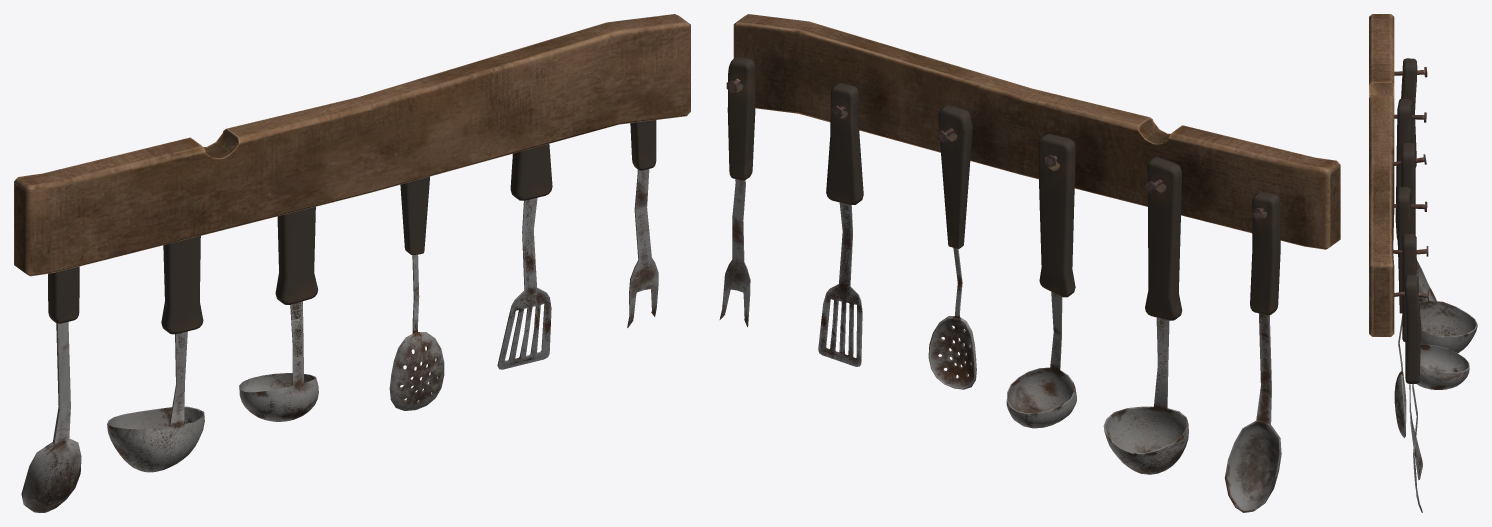
File: Muoi.glb
The picture shows the model from 3 angles, left to right: view 1: azimuth 30°, elevation 25°; view 2: azimuth 150°, elevation 25°; view 3: azimuth 270°, elevation 25°; orthographic projection. The views are drawn at different scales.
Parts seen in each view (by area): view 1: handle.005; view 2: handle.005; view 3: handle.005.
Part boxes in pixels (x1,y1,x2,y2): handle.005: [14, 14, 690, 512]; handle.005: [719, 14, 1340, 512]; handle.005: [1369, 14, 1477, 512].
Size of the model in its own units: 0.6818 by 0.3773 by 0.1229.
1 material, 1 textured.
